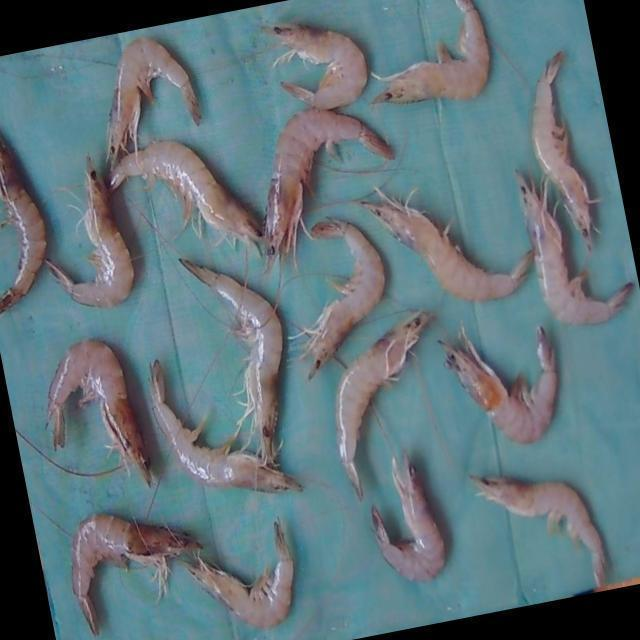shrimp: (179, 259, 283, 468), (263, 107, 393, 267), (149, 360, 302, 494), (358, 188, 533, 302), (336, 312, 433, 501), (517, 172, 635, 325), (71, 515, 200, 637), (107, 140, 261, 242), (46, 341, 151, 486), (472, 477, 606, 588), (440, 327, 558, 444), (43, 155, 133, 307), (533, 50, 599, 250), (302, 220, 385, 379), (106, 36, 200, 169), (373, 0, 490, 103), (184, 521, 294, 630), (372, 454, 445, 583), (262, 23, 367, 109), (0, 138, 46, 312)
